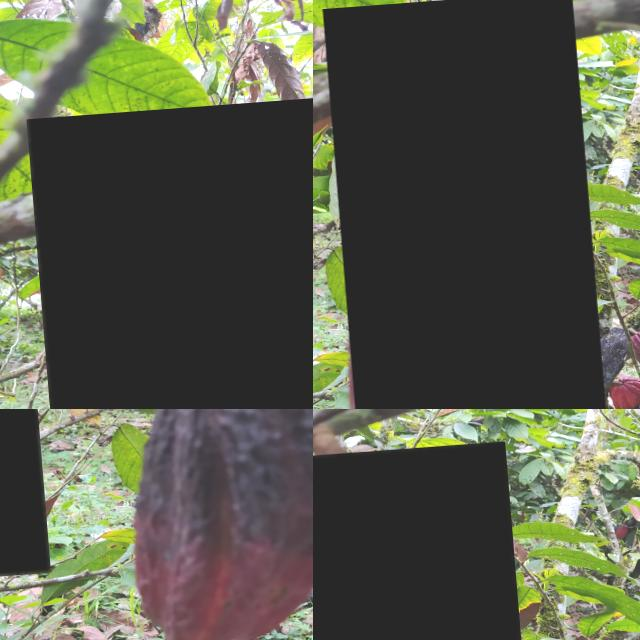Fitoftora: (313, 448, 524, 640)
Sana: (320, 0, 596, 409), (24, 104, 313, 409), (0, 409, 42, 581)
